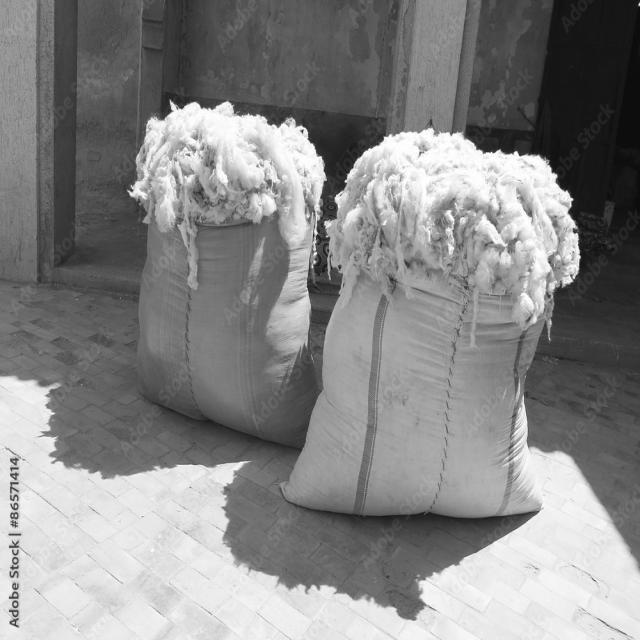sack: (278, 249, 545, 516), (134, 192, 315, 450)
